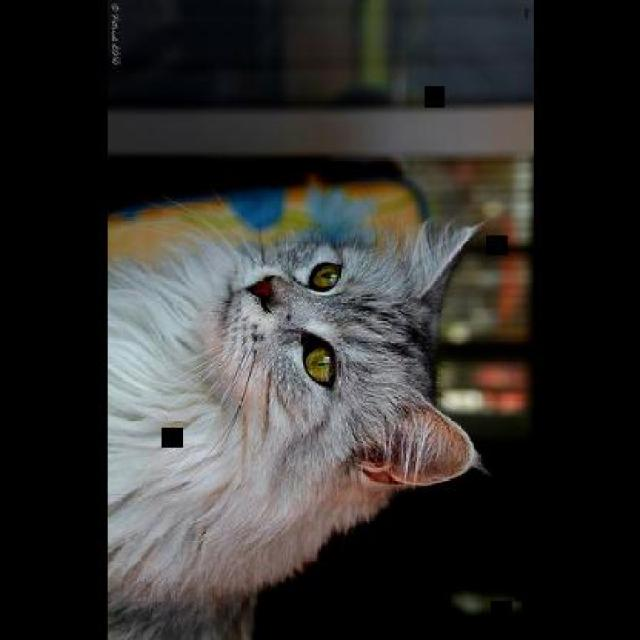unauthorized: (106, 194, 486, 638)
